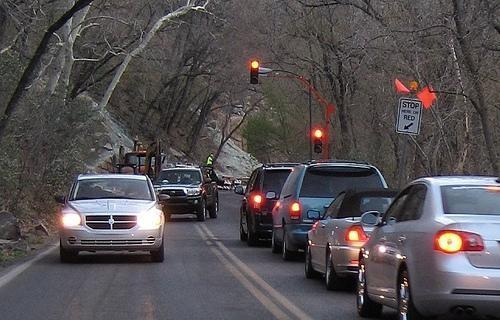car: (357, 176, 500, 315), (266, 159, 390, 262), (304, 188, 401, 292), (57, 171, 166, 261), (234, 164, 302, 246)
truck: (152, 162, 220, 222), (122, 150, 164, 182)
